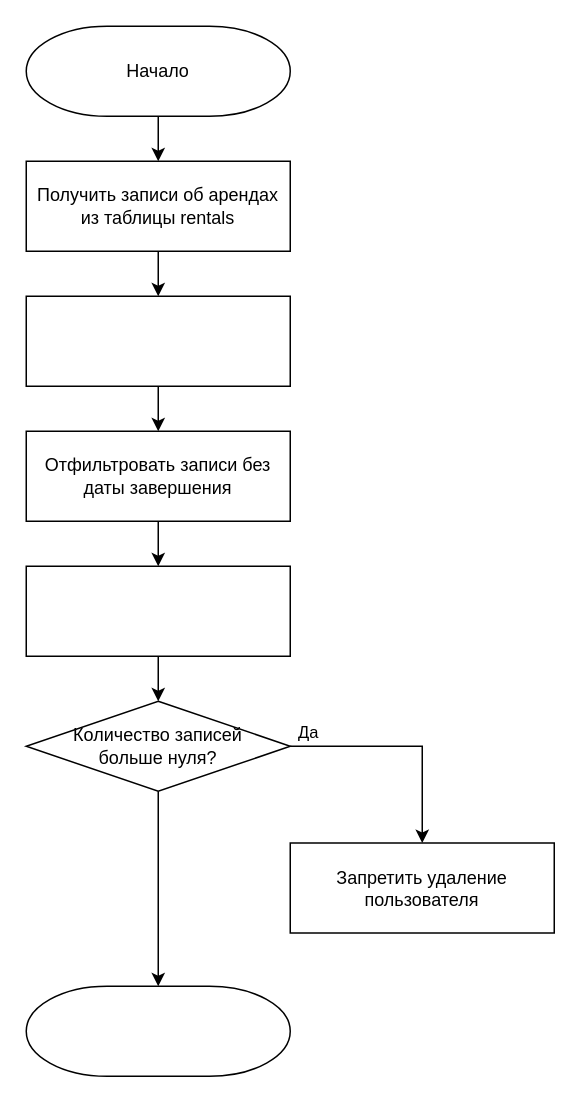
Image size: 581x1103. Some labels were removed from this diagram. Each missing label, with the centre of its shape:
"Конец" belongs at point 157,1030.
"Отфильтровать записи указанного пользователя" belongs at point 157,340.
"Подсчитать количество записей в полученной выборке" belongs at point 157,610.
